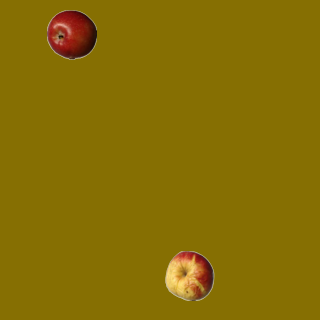Apple Braeburn: (46, 9, 96, 59)
Apple Red Yellow 1: (164, 250, 214, 300)
